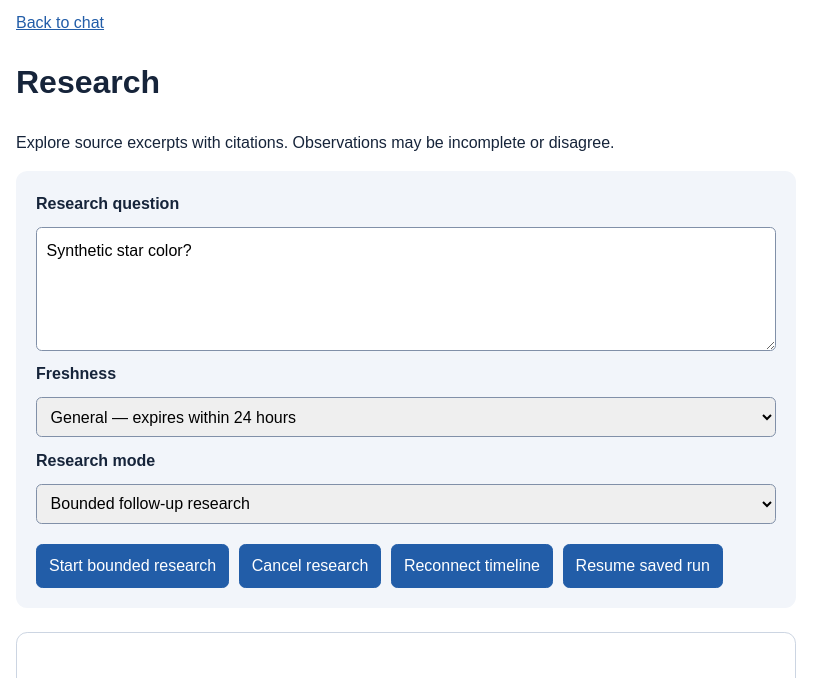
research page › serializes timeline reconnection with start and resume actions
This screenshot has width=813, height=678.
Expected: the button "Resume saved run" is enabled, [563,544,723,588]
Click the button "Reconnect timeline" at point(472, 566), box [391,544,553,588]
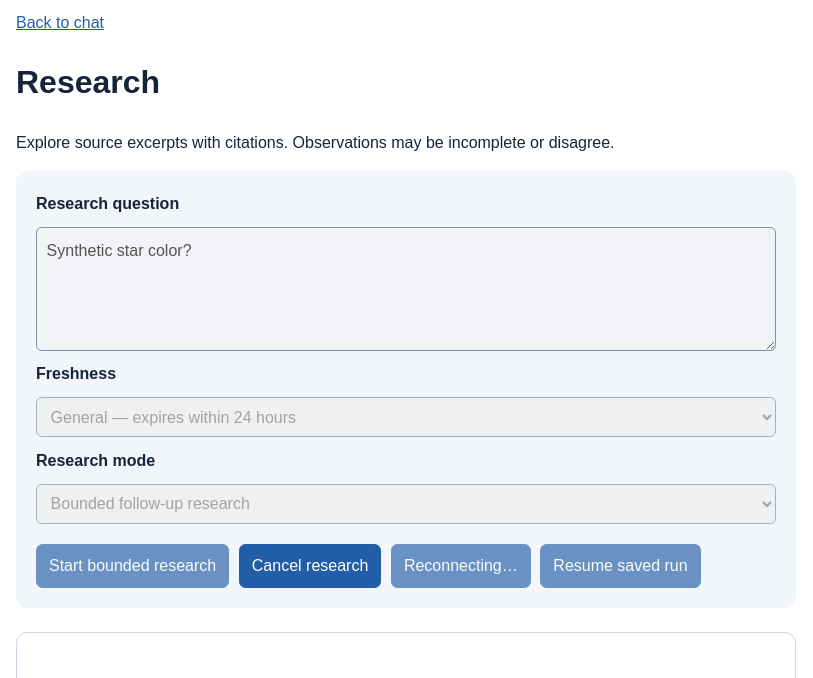
Result: the button "Start bounded research" is disabled at [36,544,229,588]
Result: the button "Resume saved run" is disabled at [540,544,701,588]
Submit the form labelled "Research question"
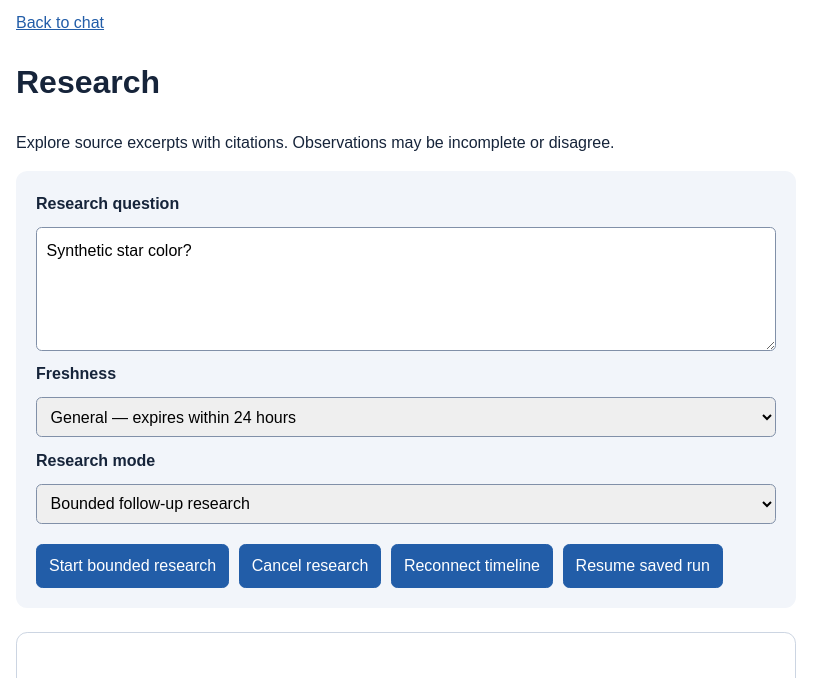
Result: the button "Resume saved run" is enabled at [563,544,723,588]
